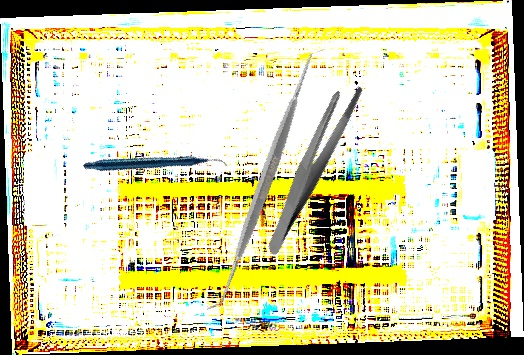Dressing Forceps: (227, 76, 397, 257)
Handpiece: (82, 98, 229, 234)
Spatula Surgical: (136, 49, 395, 310)
